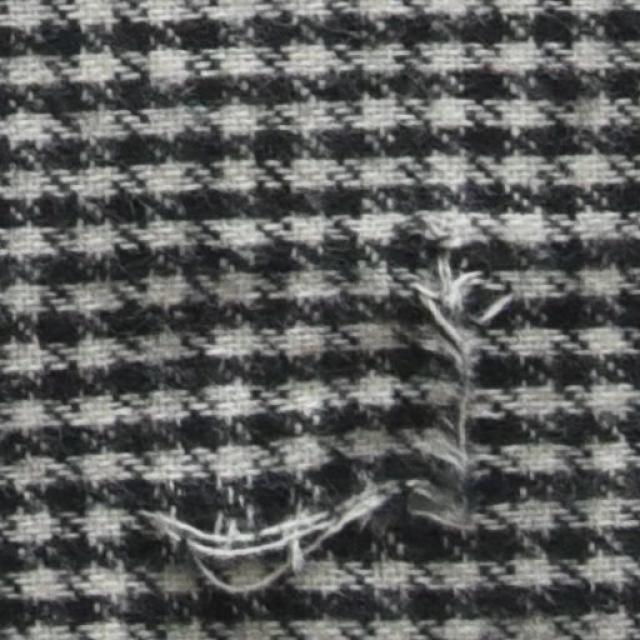Snag: (150, 214, 504, 599)
